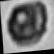correct: (1, 0, 54, 54)
